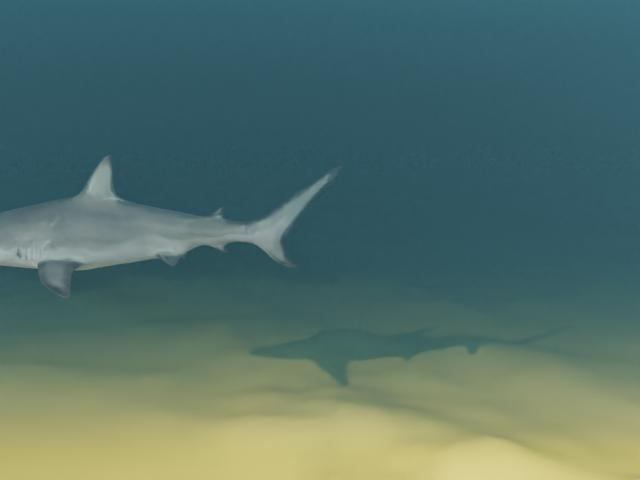Carribean Shark.001: (0, 155, 343, 297)
